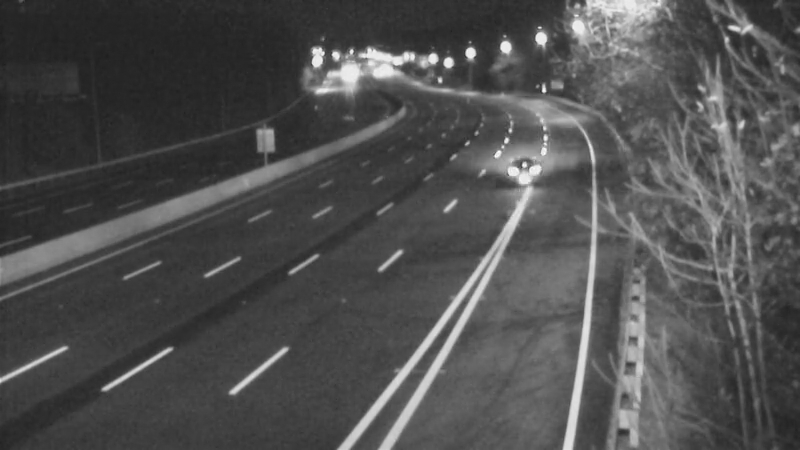vehicle: (482, 133, 562, 213)
